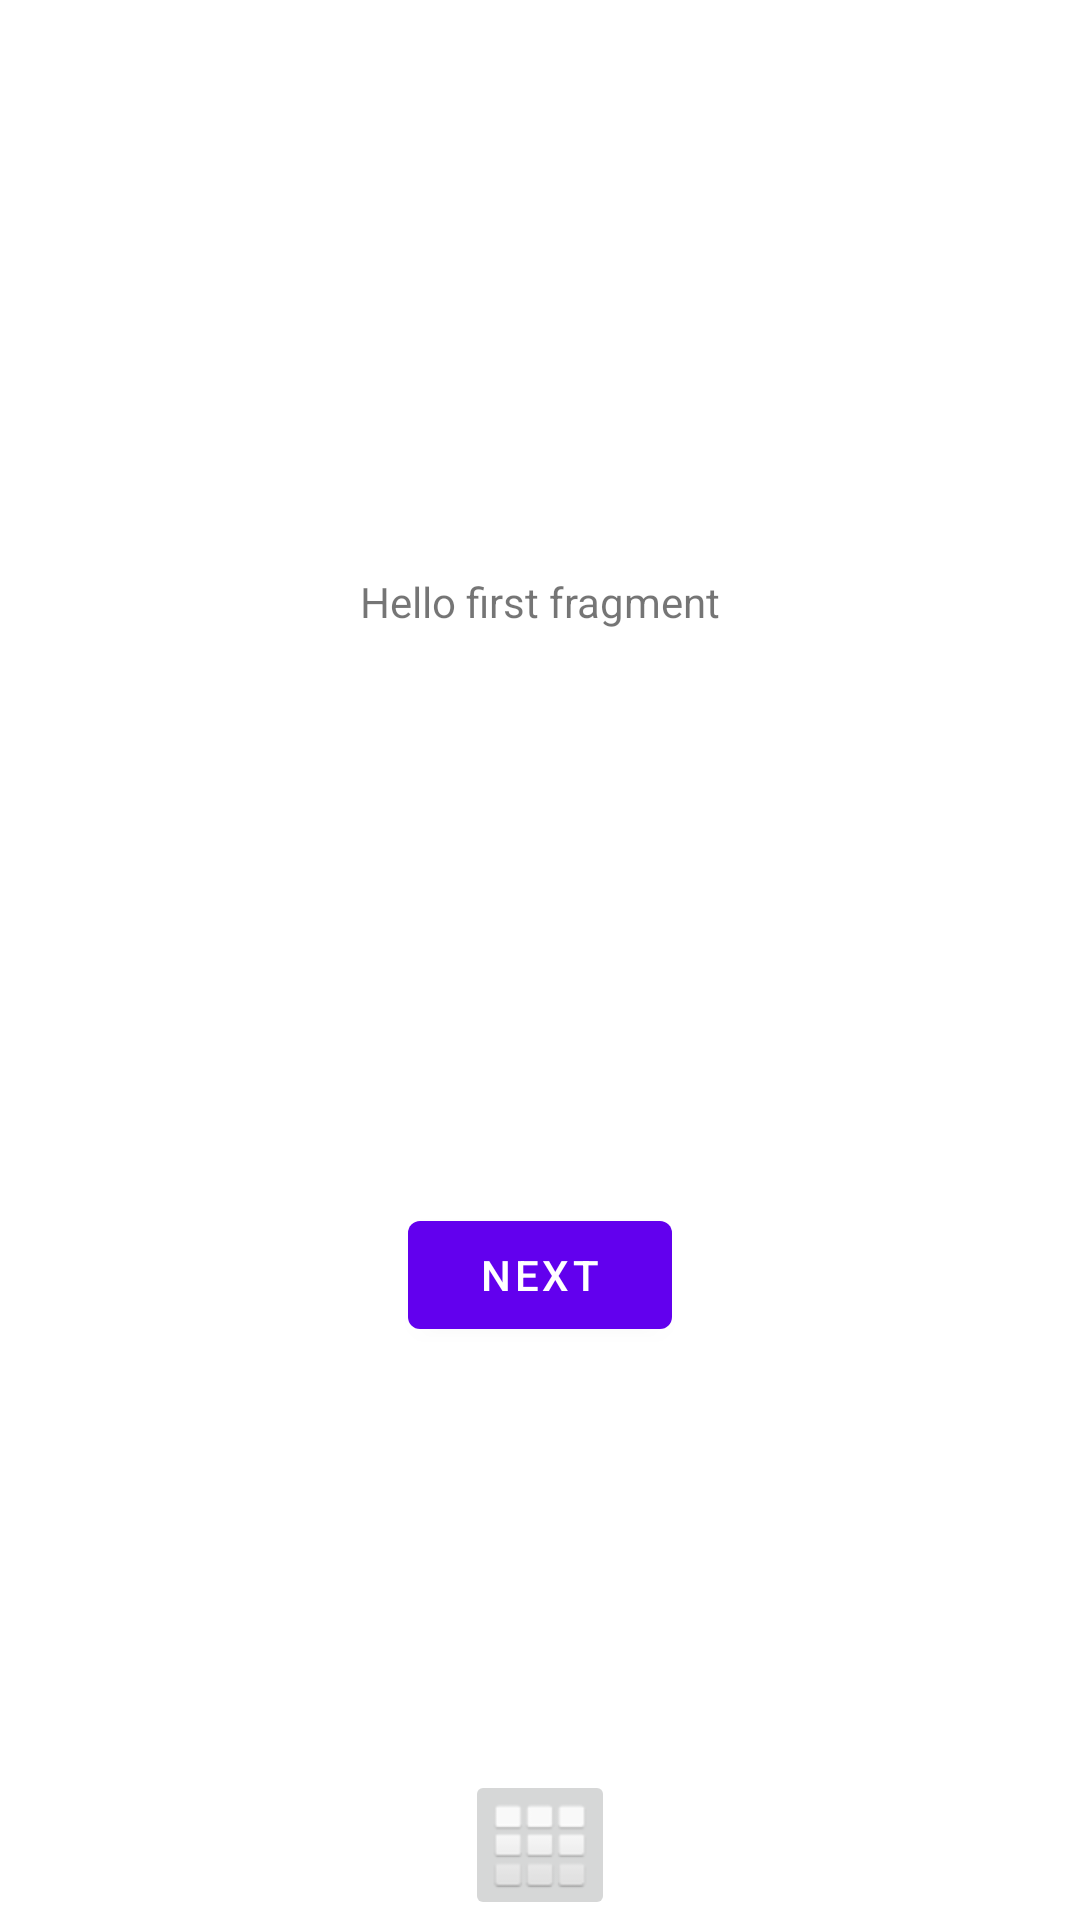

Screen size 1080px×1920px. Icon name, then its center in pixels as [x,y]:
dialer: [540,1845]
